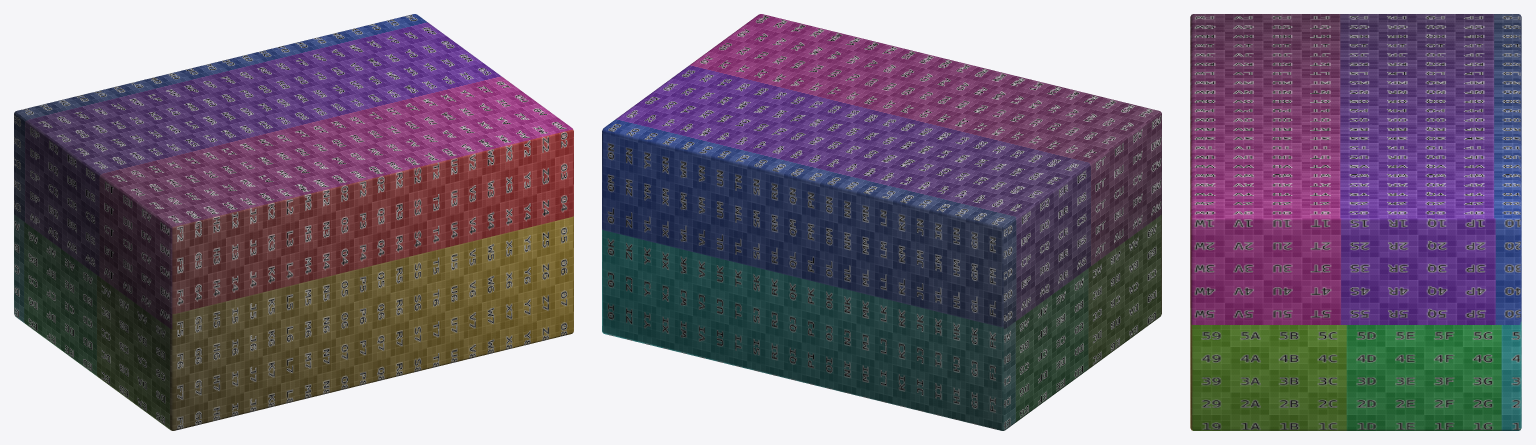
The model's file is cardboard_empty.glb.
The picture shows the model from 3 angles, left to right: view 1: azimuth 30°, elevation 25°; view 2: azimuth 150°, elevation 25°; view 3: azimuth 270°, elevation 25°; orthographic projection. The views are drawn at different scales.
Visible parts, largest first — view 1: CardBoard; view 2: CardBoard; view 3: CardBoard.
Part boxes in pixels (<box>): CardBoard: <box>14,14,573,430</box>; CardBoard: <box>602,14,1161,430</box>; CardBoard: <box>1190,14,1521,430</box>.
Size of the model in its own units: 0.41 by 0.2 by 0.28.
Materials: 1 (1 with a texture image).
